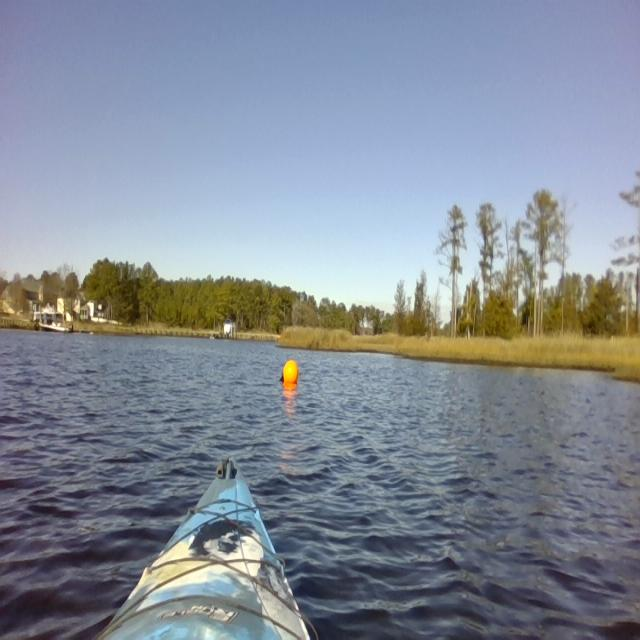Buoy: (277, 354, 304, 389)
